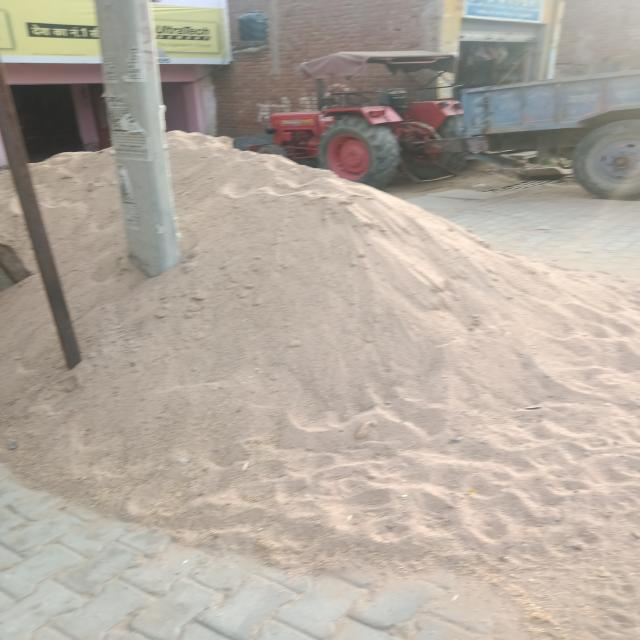tractor: (269, 43, 640, 195)
